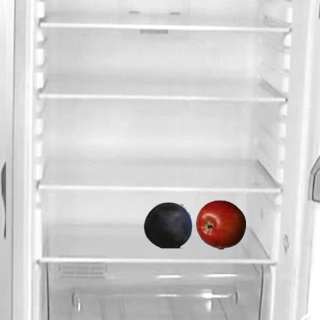Apple Braeburn: (195, 199, 245, 249)
Grape Blue: (142, 199, 192, 249)
